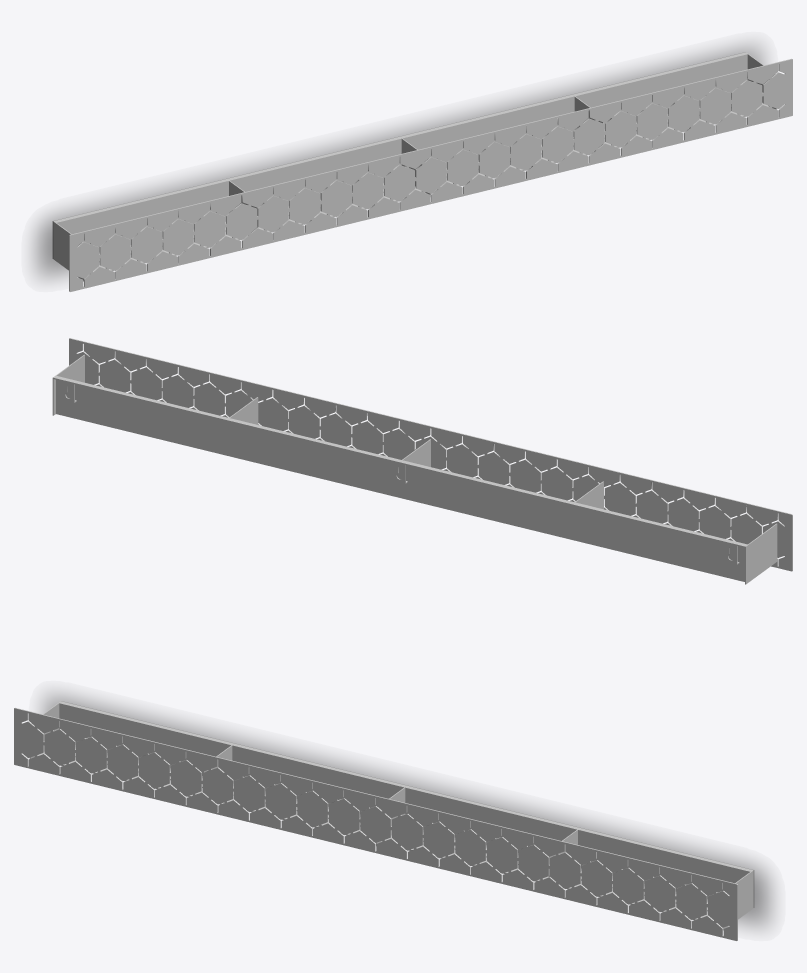
File: bee-mono.126d6957cc.ar.glb
The picture shows the model from 3 angles, top to bottom: view 1: azimuth 30°, elevation 25°; view 2: azimuth 150°, elevation 25°; view 3: azimuth 330°, elevation 25°; orthographic projection.
Parts seen in each view (by area): view 1: NAUO1, object 2; view 2: NAUO1; view 3: NAUO1, object 2.
Part boxes in pixels (x1=…): NAUO1: x1=52, y1=52, x2=792, y2=291; object 2: x1=33, y1=45, x2=765, y2=278; NAUO1: x1=52, y1=338, x2=792, y2=584; NAUO1: x1=14, y1=701, x2=754, y2=940; object 2: x1=41, y1=694, x2=773, y2=927.
Size of the model in its own units: 1.28 by 0.17 by 0.092.
2 materials, 1 textured.
